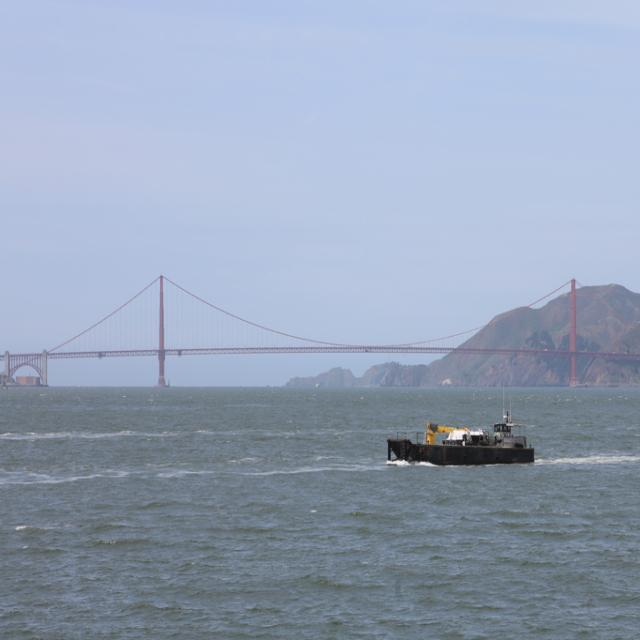Boat: (382, 384, 536, 466)
